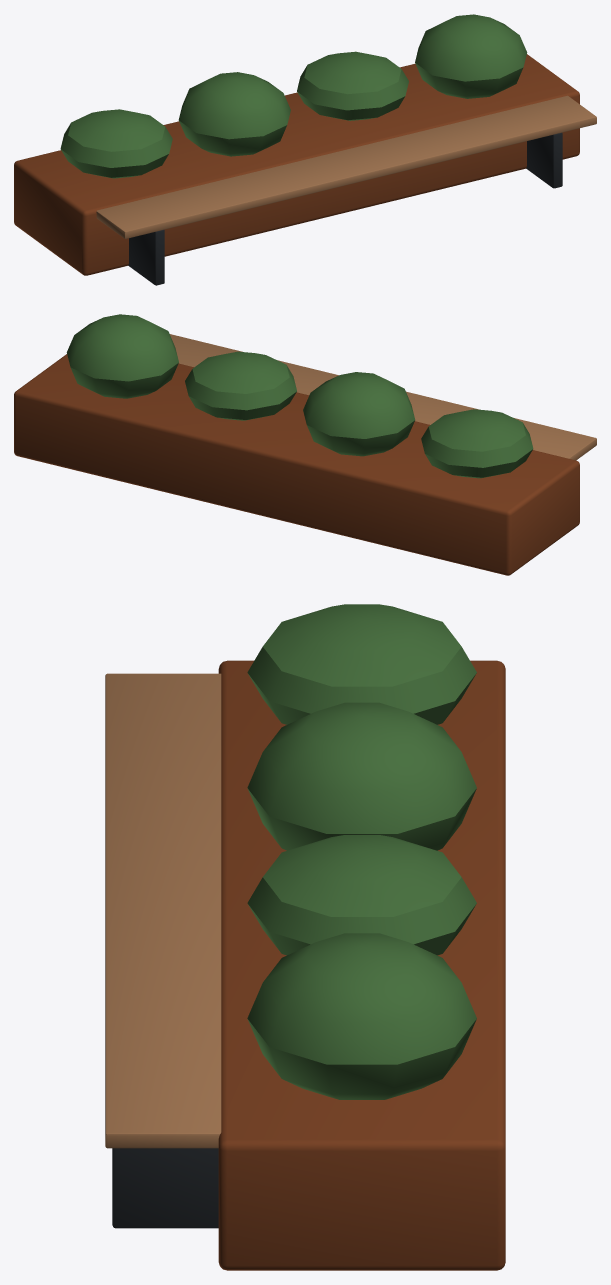
Rendered from sc-ext-planter-bench.glb.
3 views of the same model, one above another, from view 1: azimuth 30°, elevation 25°; view 2: azimuth 150°, elevation 25°; view 3: azimuth 270°, elevation 25° (orthographic). The views are drawn at different scales.
Visible parts, largest first — view 1: sc-ext-planter-bench; view 2: sc-ext-planter-bench; view 3: sc-ext-planter-bench.
Part boxes in pixels (box(x1,y1,x2,y2)): sc-ext-planter-bench: box(14, 14, 596, 285); sc-ext-planter-bench: box(14, 314, 596, 575); sc-ext-planter-bench: box(105, 604, 505, 1270).
Bounding box in the file's own units: 4 × 0.975 × 1.39.
